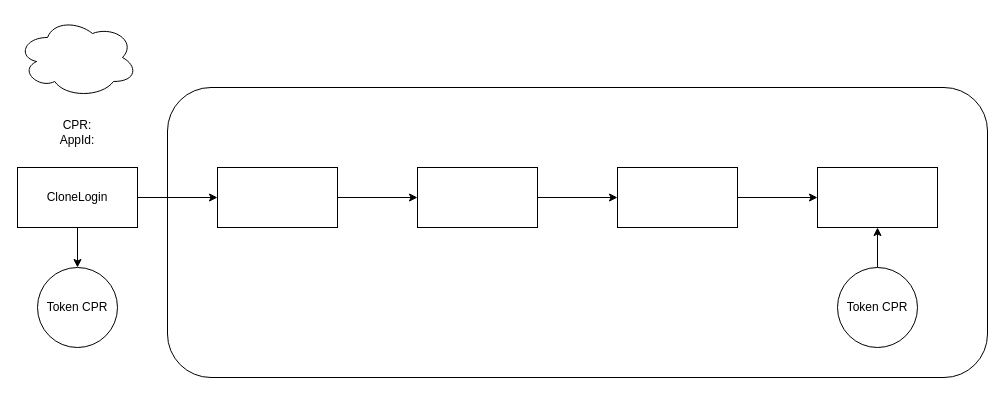
The diagram is 1005 pixels wide and 395 high, and some of its shapes have lost their labels. Here are the shapes that lost their labels. From the top down, the box of each, then its label:
(16, 16, 138, 98): validations
(816, 166, 938, 228): Save
